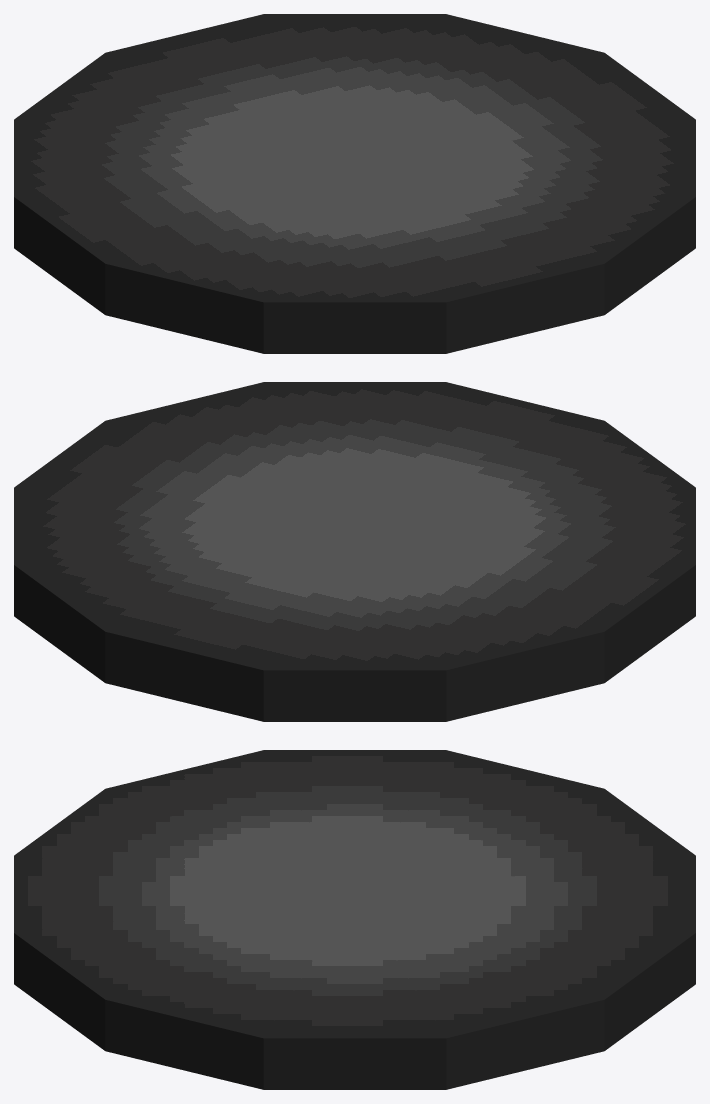
File: BattlePlatBase.glb
3 renders of one model, top to bottom at view 1: azimuth 30°, elevation 25°; view 2: azimuth 150°, elevation 25°; view 3: azimuth 270°, elevation 25°, orthographic.
Parts seen in each view (by area): view 1: cylinder; view 2: cylinder; view 3: cylinder.
Part boxes in pixels (left/top/right/bottom): cylinder: left=14, top=14, right=695, bottom=353; cylinder: left=14, top=382, right=695, bottom=721; cylinder: left=14, top=750, right=695, bottom=1089.
Size of the model in its own units: 3 by 0.25 by 3.
Materials: 1 (1 with a texture image).
